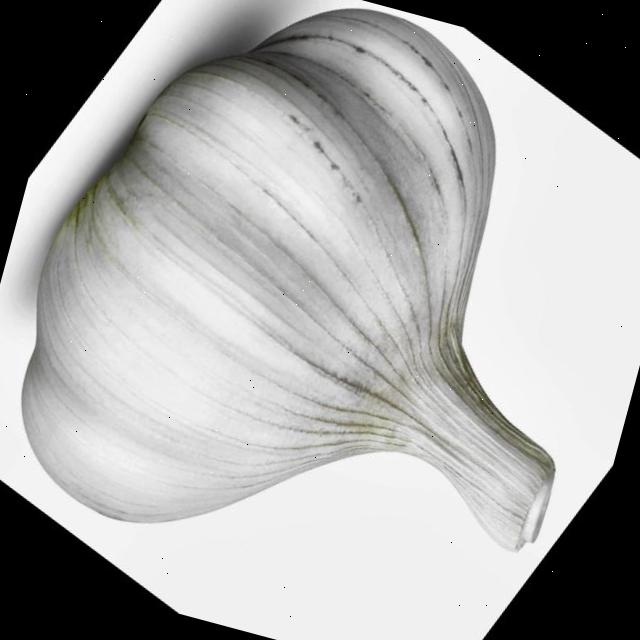garlic: (21, 9, 553, 550)
